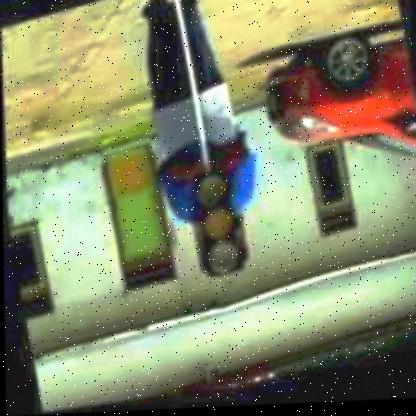Traffic Light -Yellow-: (189, 168, 245, 286)
